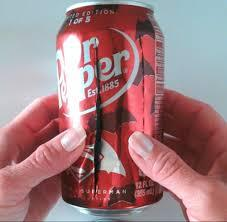Aluminum can: (47, 0, 168, 215)
